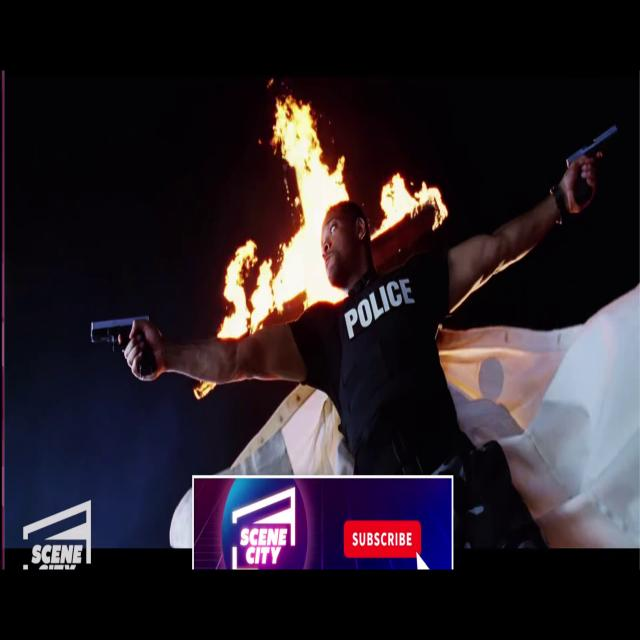weapons: (83, 301, 167, 396), (556, 113, 627, 225)
